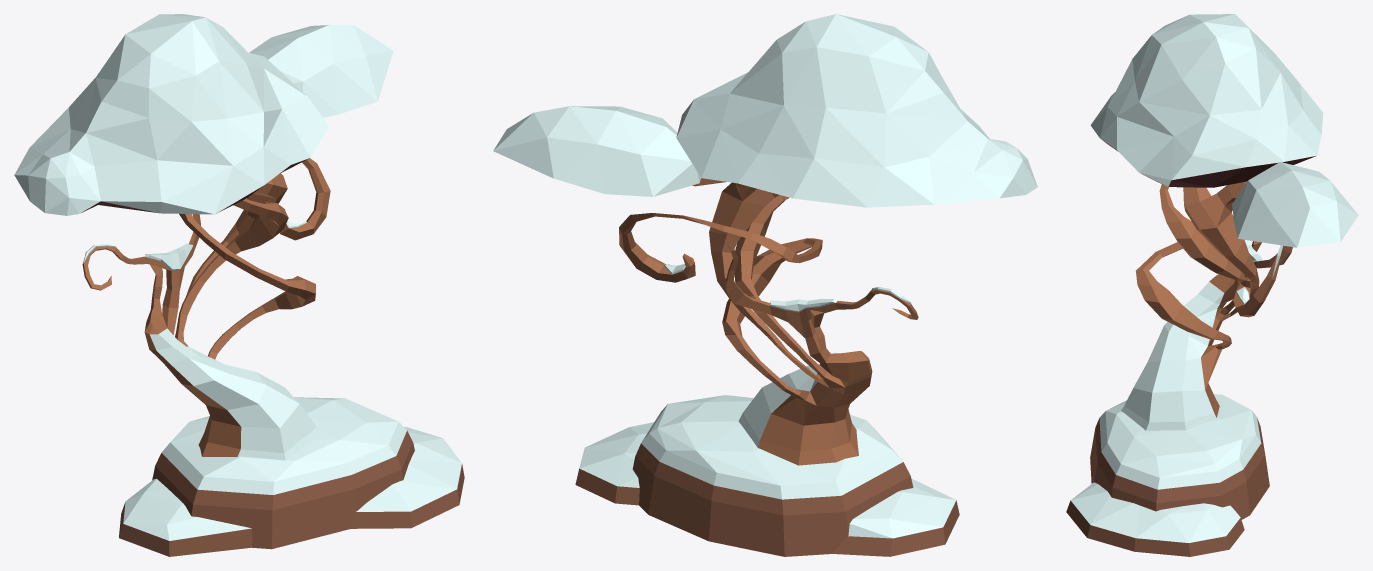
Rendered from Defend_Tree.FBX.
3 renders of one model, left to right at view 1: azimuth 30°, elevation 25°; view 2: azimuth 150°, elevation 25°; view 3: azimuth 270°, elevation 25°, orthographic. The views are drawn at different scales.
Visible parts, largest first — view 1: Defend_Tree; view 2: Defend_Tree; view 3: Defend_Tree.
Part boxes in pixels (x1,y1,x2,y2): Defend_Tree: [14, 14, 464, 556]; Defend_Tree: [493, 14, 1037, 556]; Defend_Tree: [1066, 14, 1358, 556].
Size of the model in its own units: 423 by 462 by 286.
